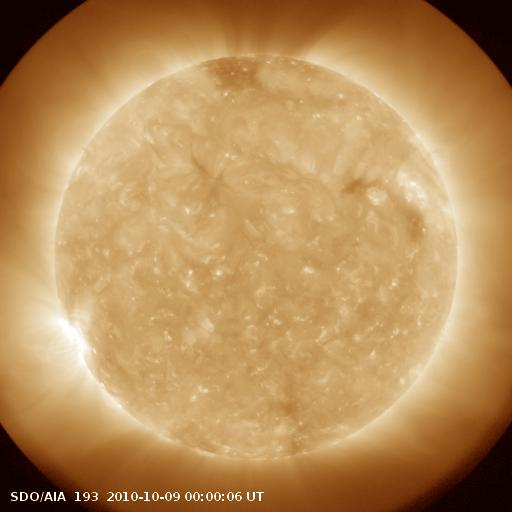coronal_hole: (343, 175, 423, 238), (194, 49, 275, 102)
